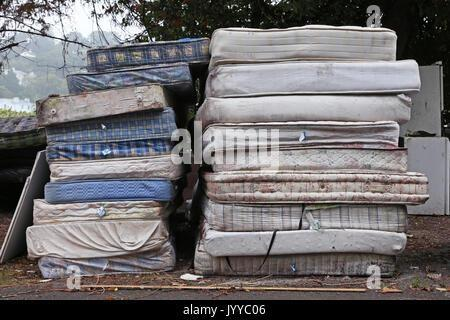Bed-Mattress: (210, 26, 398, 69), (206, 60, 422, 97), (197, 94, 412, 128), (194, 241, 397, 277), (203, 121, 400, 152), (204, 229, 408, 257), (36, 85, 169, 126), (45, 107, 177, 143), (87, 38, 210, 72), (66, 62, 194, 94), (49, 155, 185, 182), (33, 199, 177, 224), (44, 180, 175, 204), (46, 139, 173, 162)
